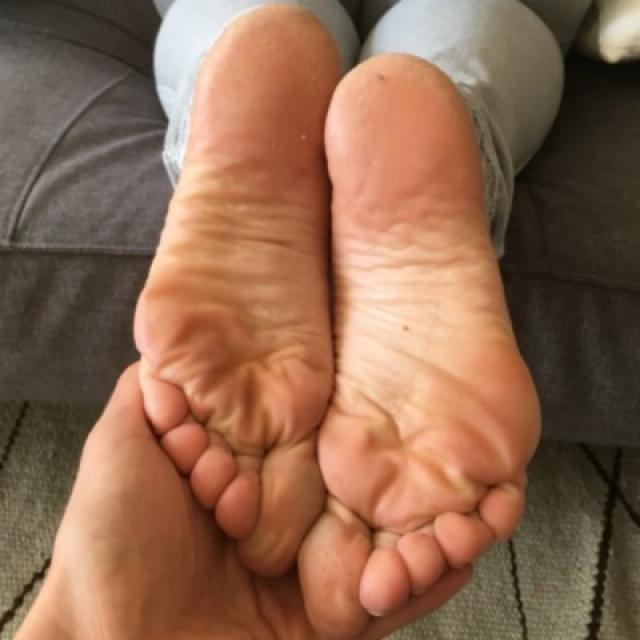No_Shoes: (348, 39, 576, 578), (163, 8, 327, 515)
